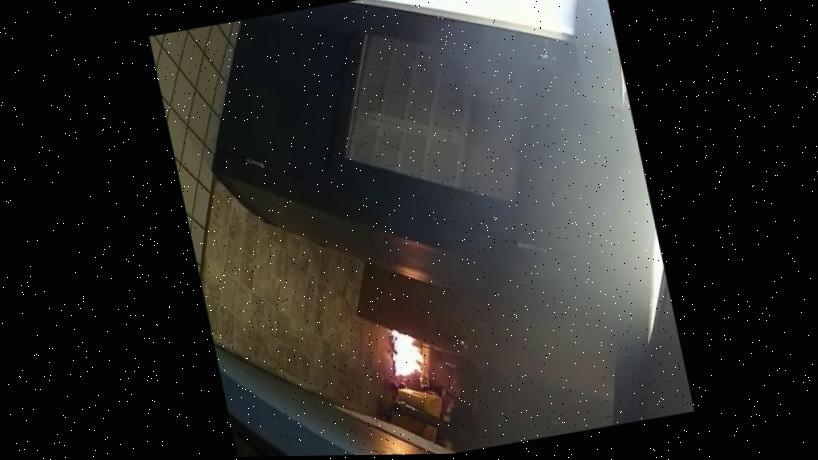fire: (372, 304, 446, 401)
